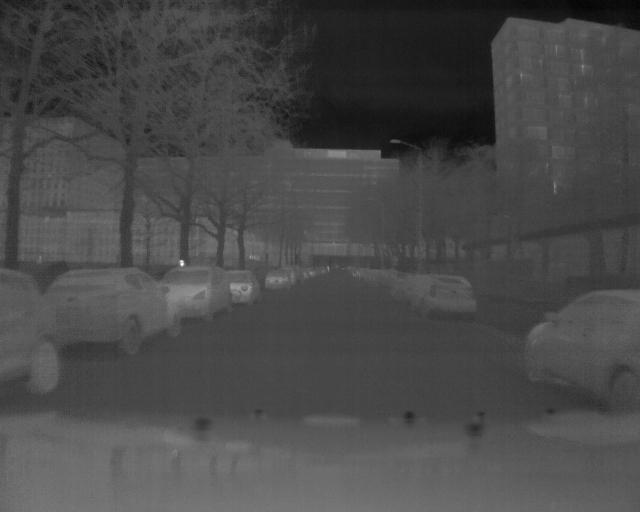car: (522, 283, 640, 401), (48, 267, 182, 351), (1, 270, 60, 391), (163, 260, 236, 320), (414, 271, 480, 320), (229, 267, 261, 305), (263, 262, 293, 290)
